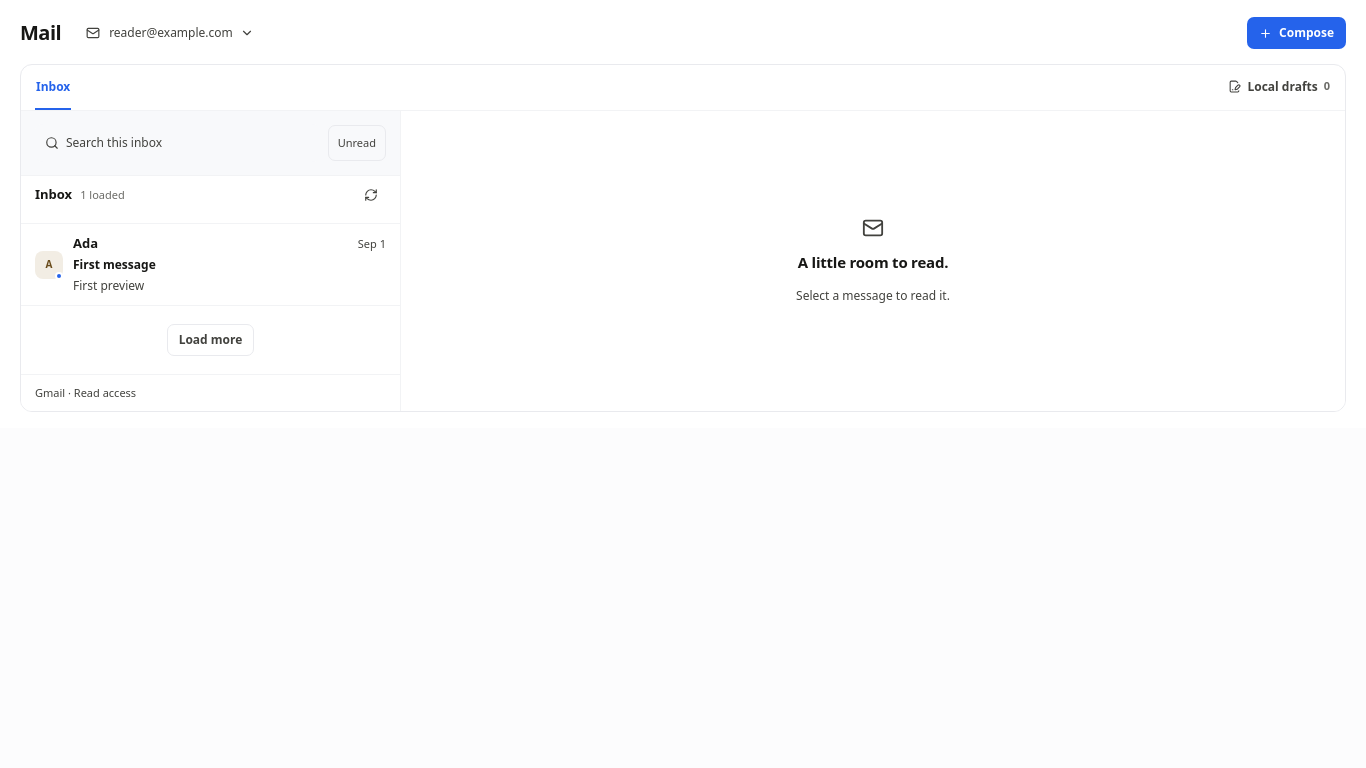
Scenario: MailWorkspace status notices › retries a failed next page without replacing the loaded messages
The width and height of the screenshot is (1366, 768).
Click the button "Load more": (211, 340) [167,324,254,356]
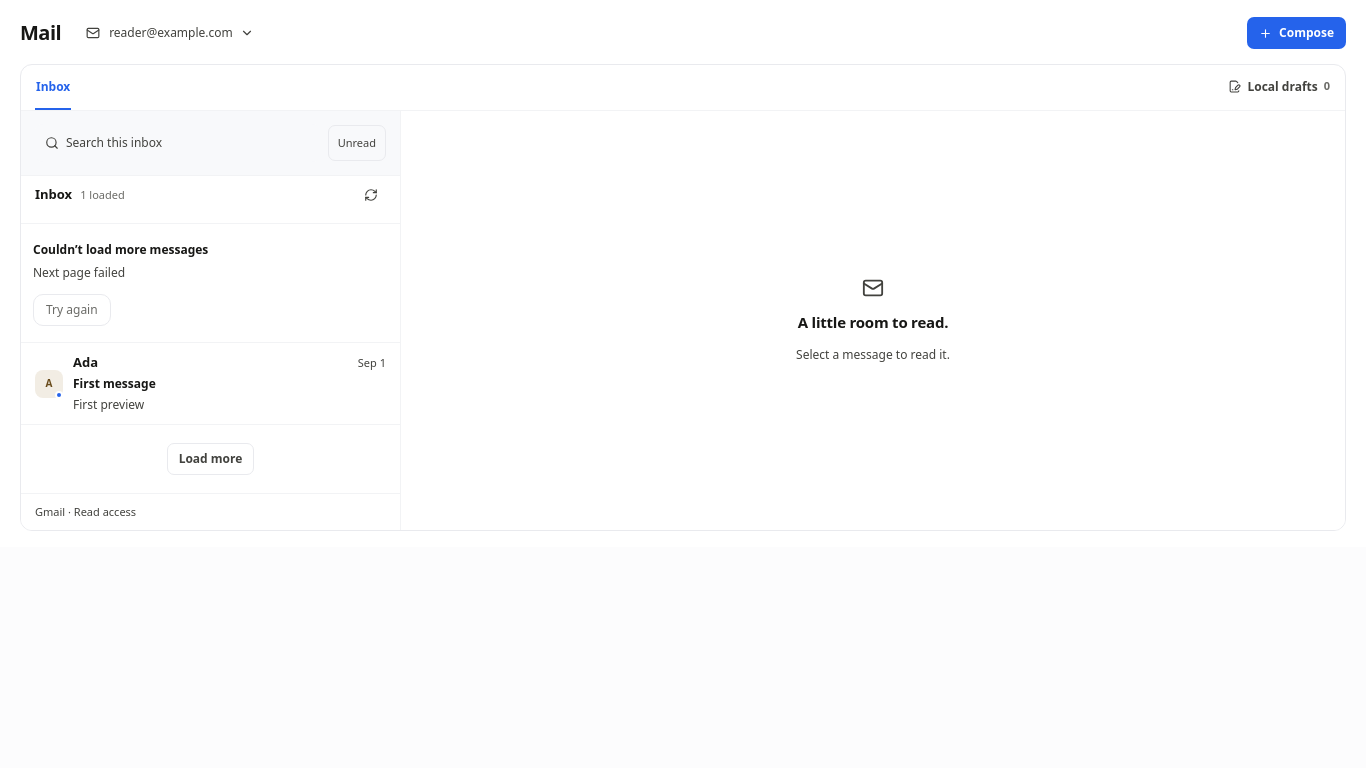
Expected: the text "First message" is shown, [73,375,156,393]
Result: the message "Couldn’t load more messages Next page failed Try again" is shown at [21,224,400,343]
Click the button "Try again": (72, 310) [33,294,111,326]
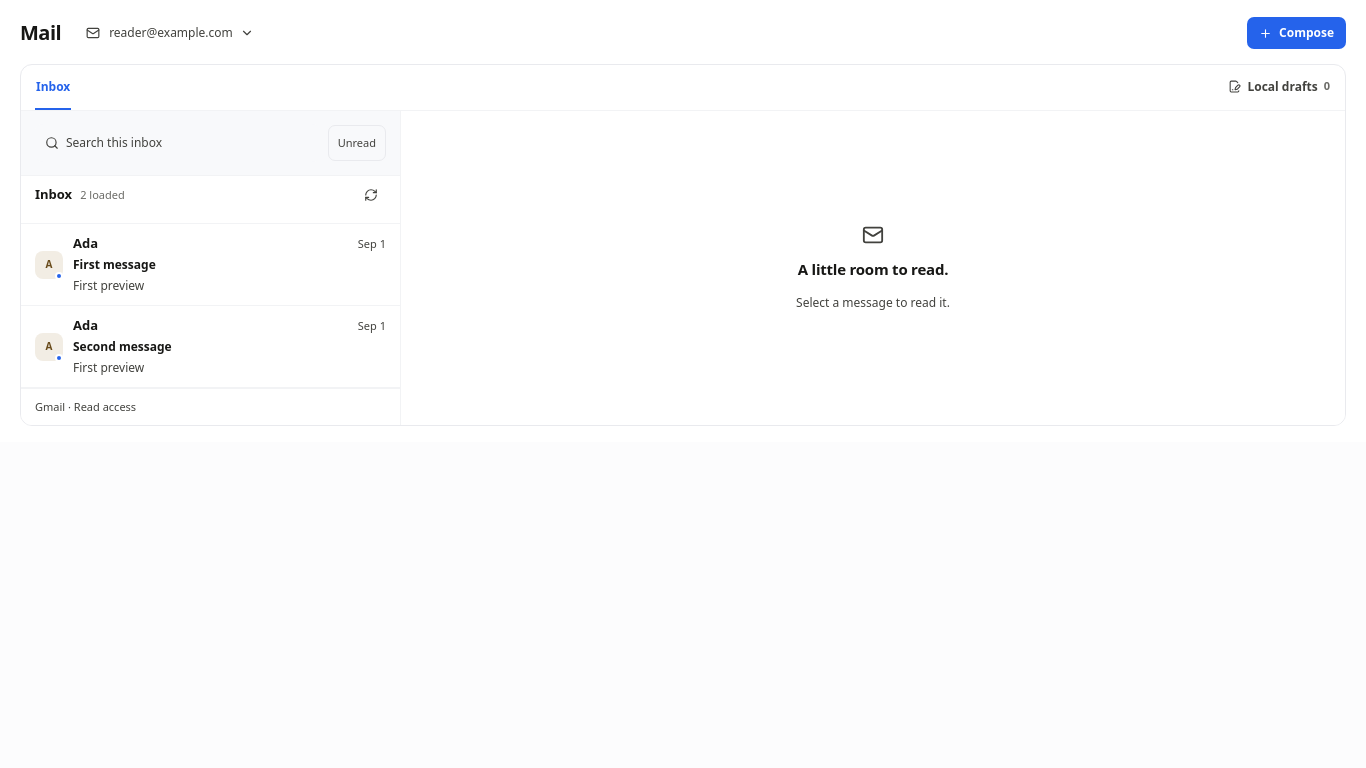
Expected: the text "First message" is shown, [73,256,156,274]
Result: the message "Couldn’t load more messages Next page failed Try again" is gone
Result: the text "Second message" is shown at [73,338,172,356]
